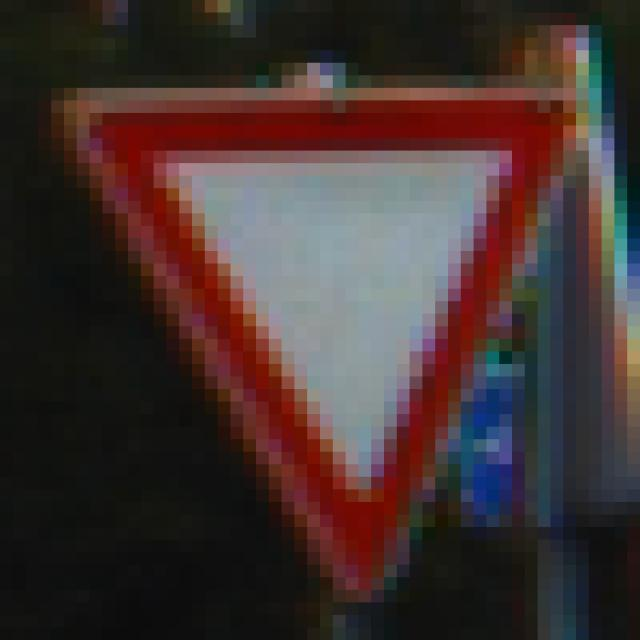Give Way: (65, 77, 577, 579)
